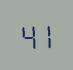four: (19, 20, 35, 50)
one: (36, 20, 52, 49)
